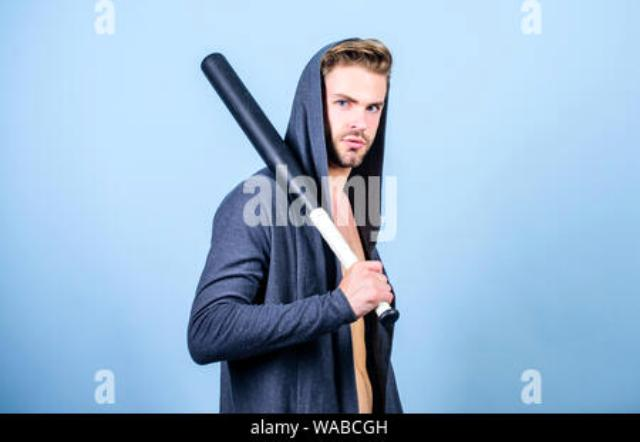baseball bat: (200, 51, 398, 327)
